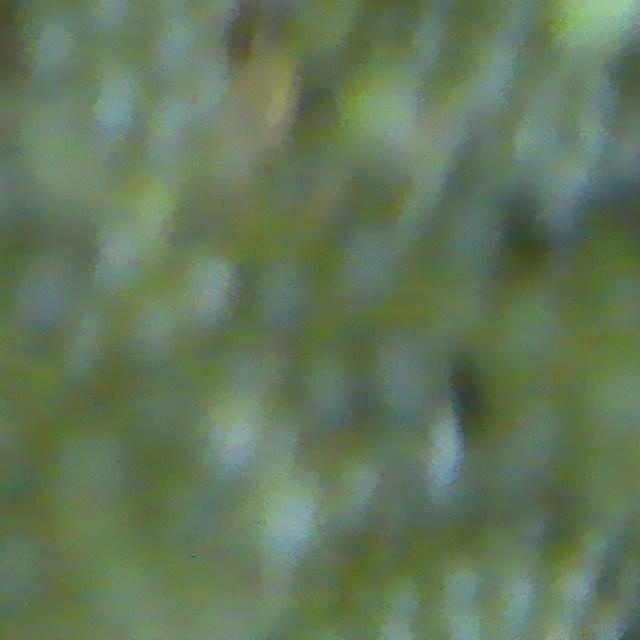SeaGrape: (329, 62, 434, 178), (240, 472, 335, 571), (163, 238, 250, 334), (2, 241, 91, 334), (89, 214, 173, 300), (291, 344, 371, 429), (20, 8, 89, 82), (87, 61, 152, 136)
